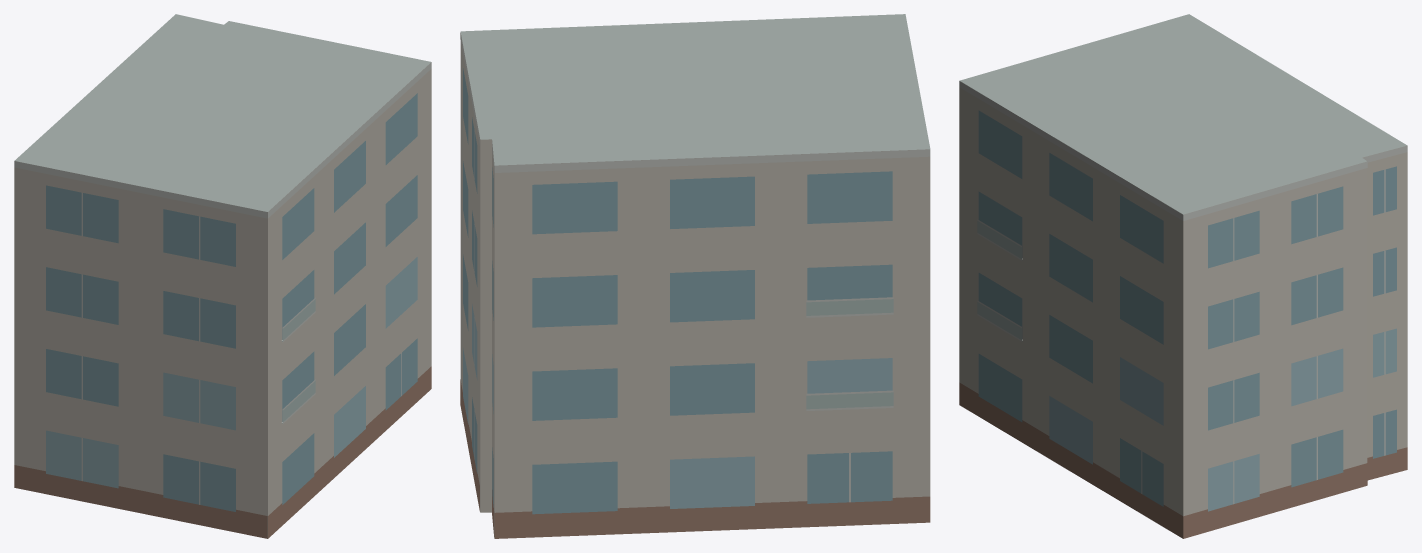
File: survey-upis-32931362.glb
3 views of the same model, side by side, from view 1: azimuth 30°, elevation 25°; view 2: azimuth 150°, elevation 25°; view 3: azimuth 270°, elevation 25° (orthographic). The views are drawn at different scales.
Visible parts, largest first — view 1: survey-upis-32931362.tmp; view 2: survey-upis-32931362.tmp; view 3: survey-upis-32931362.tmp.
Boxes of the visible parts, box(x1,y1,x2,y2) form: survey-upis-32931362.tmp: box(14, 14, 431, 538); survey-upis-32931362.tmp: box(460, 14, 930, 538); survey-upis-32931362.tmp: box(959, 14, 1407, 538).
Bounding box in the file's own units: 16.2 × 12.2 × 15.3.
